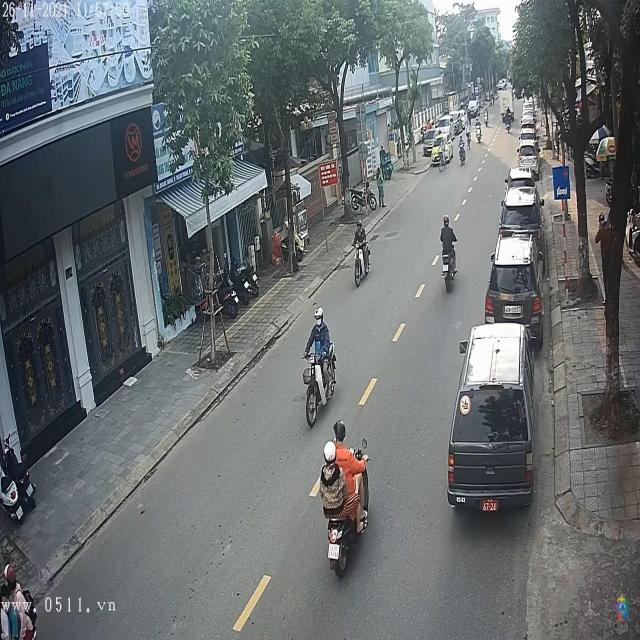car: (449, 325, 535, 512), (485, 244, 543, 339), (501, 184, 540, 227)
motorcycle: (323, 460, 372, 578), (300, 343, 340, 433), (351, 233, 373, 289), (440, 252, 457, 290)
